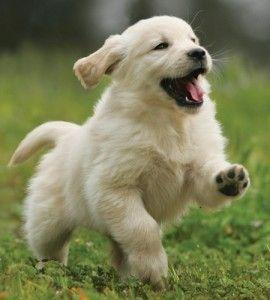puppy-dog: (9, 14, 251, 290)
